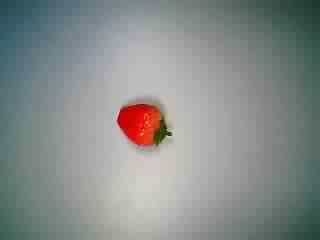strawberry: (107, 94, 175, 158)
